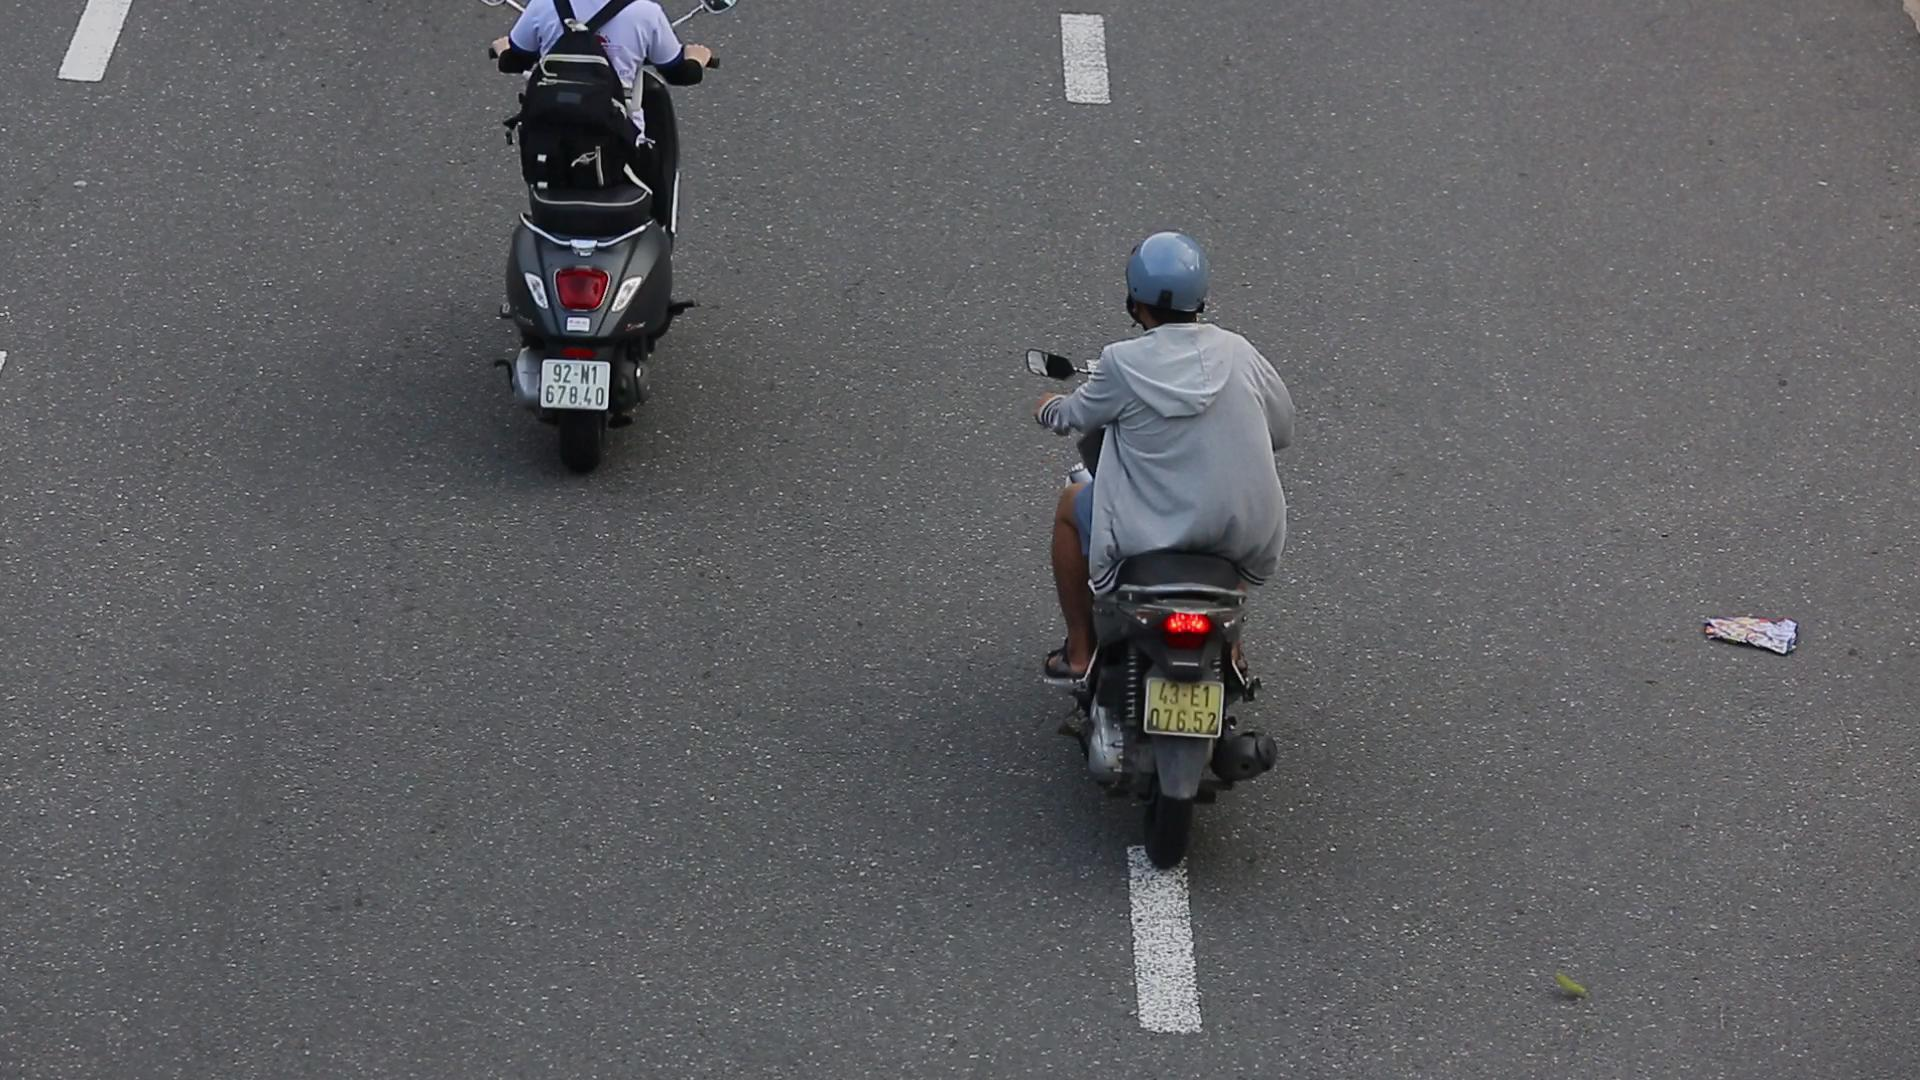motobike: (1019, 218, 1296, 885)
